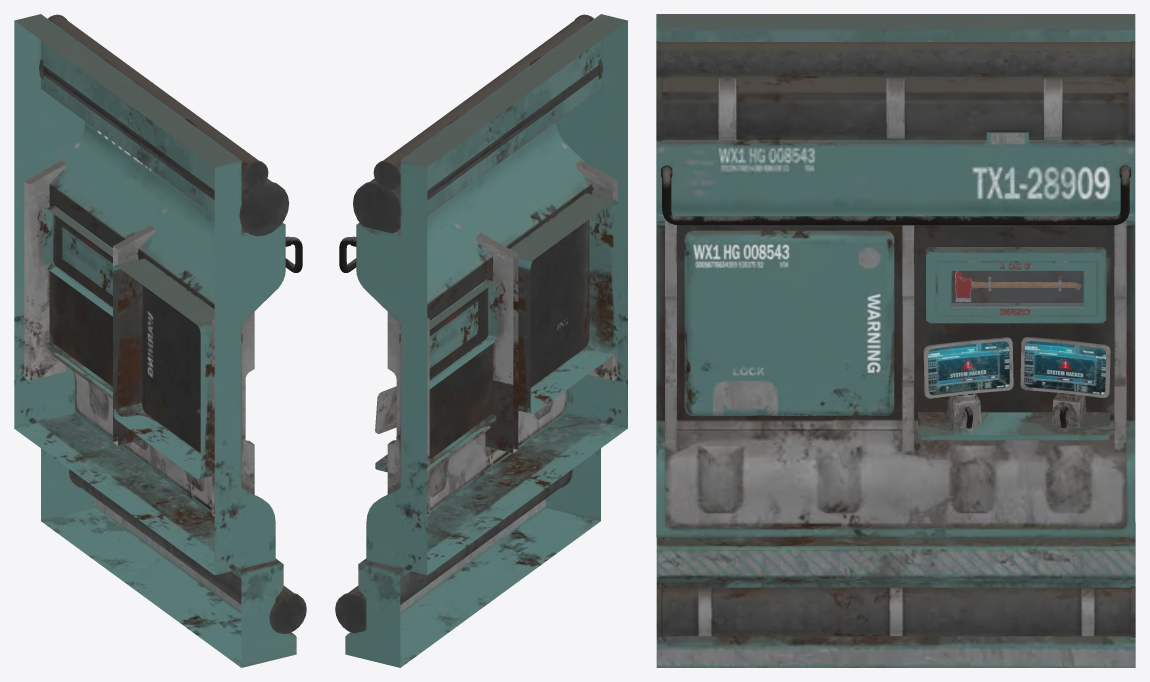
Rendered from wall-4.glb.
3 views of the same model, side by side, from view 1: azimuth 30°, elevation 25°; view 2: azimuth 150°, elevation 25°; view 3: azimuth 270°, elevation 25° (orthographic). The views are drawn at different scales.
Parts seen in each view (by area): view 1: defaultMaterial; view 2: defaultMaterial; view 3: defaultMaterial.
Boxes of the visible parts, left/top/right/bottom form: defaultMaterial: left=14, top=14, right=306, bottom=667; defaultMaterial: left=335, top=14, right=627, bottom=667; defaultMaterial: left=656, top=14, right=1135, bottom=667.
Bounding box in the file's own units: 0.3897 × 2 × 1.43.
1 material, 1 textured.
